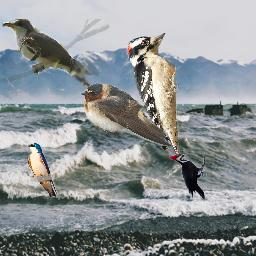Cuckoo: (2, 19, 109, 111)
Swallow: (80, 83, 173, 146), (27, 143, 58, 198)
Woodpecker: (126, 33, 181, 156), (169, 153, 206, 202)
